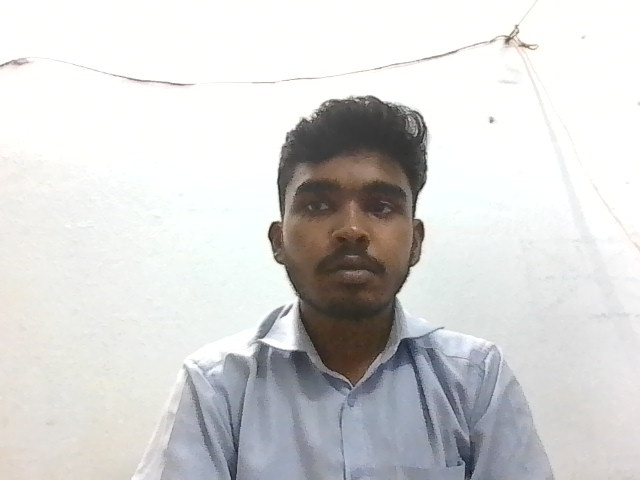real: (267, 88, 439, 332)
